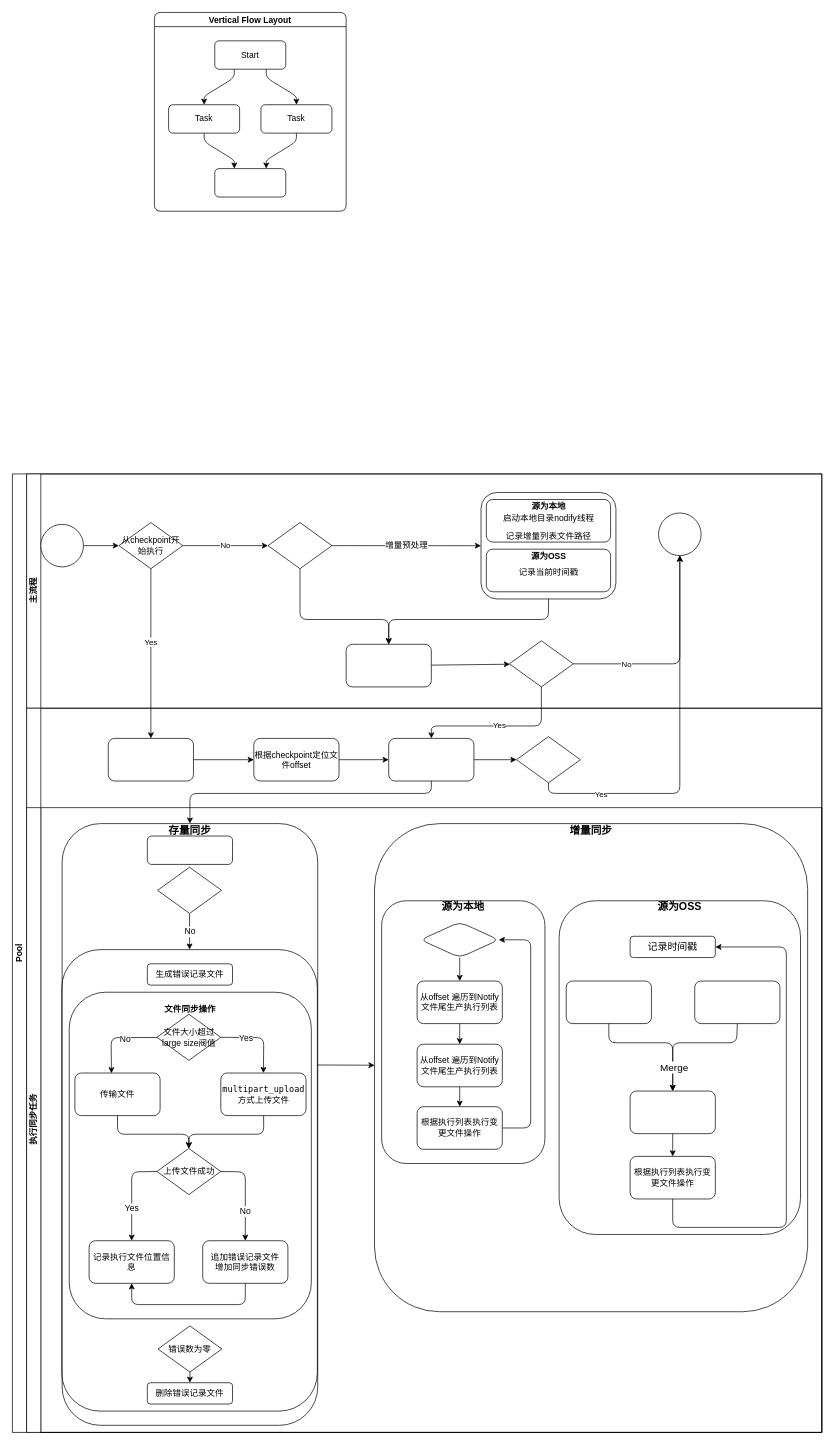
Image size: 834x1445. Some labels were removed from this diagram. Each missing label, with the centre of its shape:
End: the point at 250,182
Notify 文件长度大于执行offset: the point at 459,939
任务执行器: the point at 189,1180
同步结束: the point at 679,534
启动任务状态监听器: the point at 431,759
处理错误记录: the point at 150,759
开始同步: the point at 61,545
持续同步: the point at 299,545
文件生成成功: the point at 541,663
根据增量预处理记录的时间戳确定新增文件: the point at 737,1002
根据已执行的文件列表确定删除的文件: the point at 608,1002
检查同步错误数量是否到达上限: the point at 548,759
生成变更列表和当前文件列表: the point at 672,1112
生成对象列表文件: the point at 388,665
遍历对象列表按批次生成多线程同步任务: the point at 190,849
错误数到达上限: the point at 189,890
